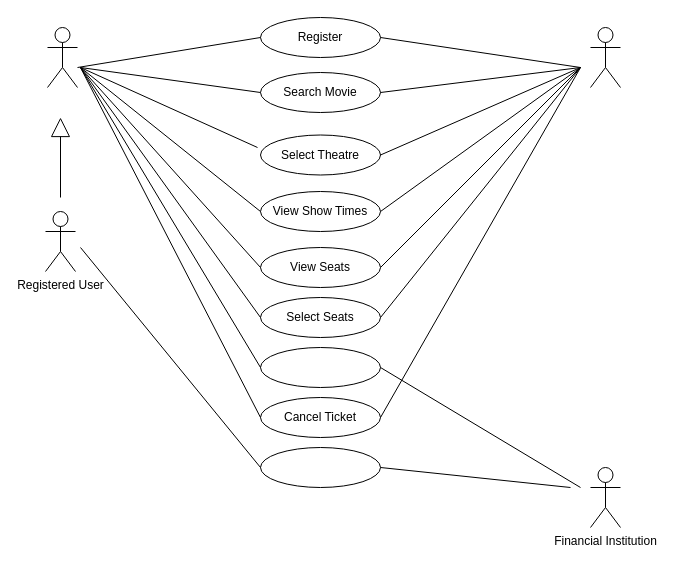
This 674x566 diagram has some shape labels left out. Here are the shapes that lost their labels. From the top down, the centre of each, then its label:
At point 62,57: "User".
At point 605,57: "Database".
At point 320,367: "Make Payment".
At point 320,467: "Pay Annual Fee".
